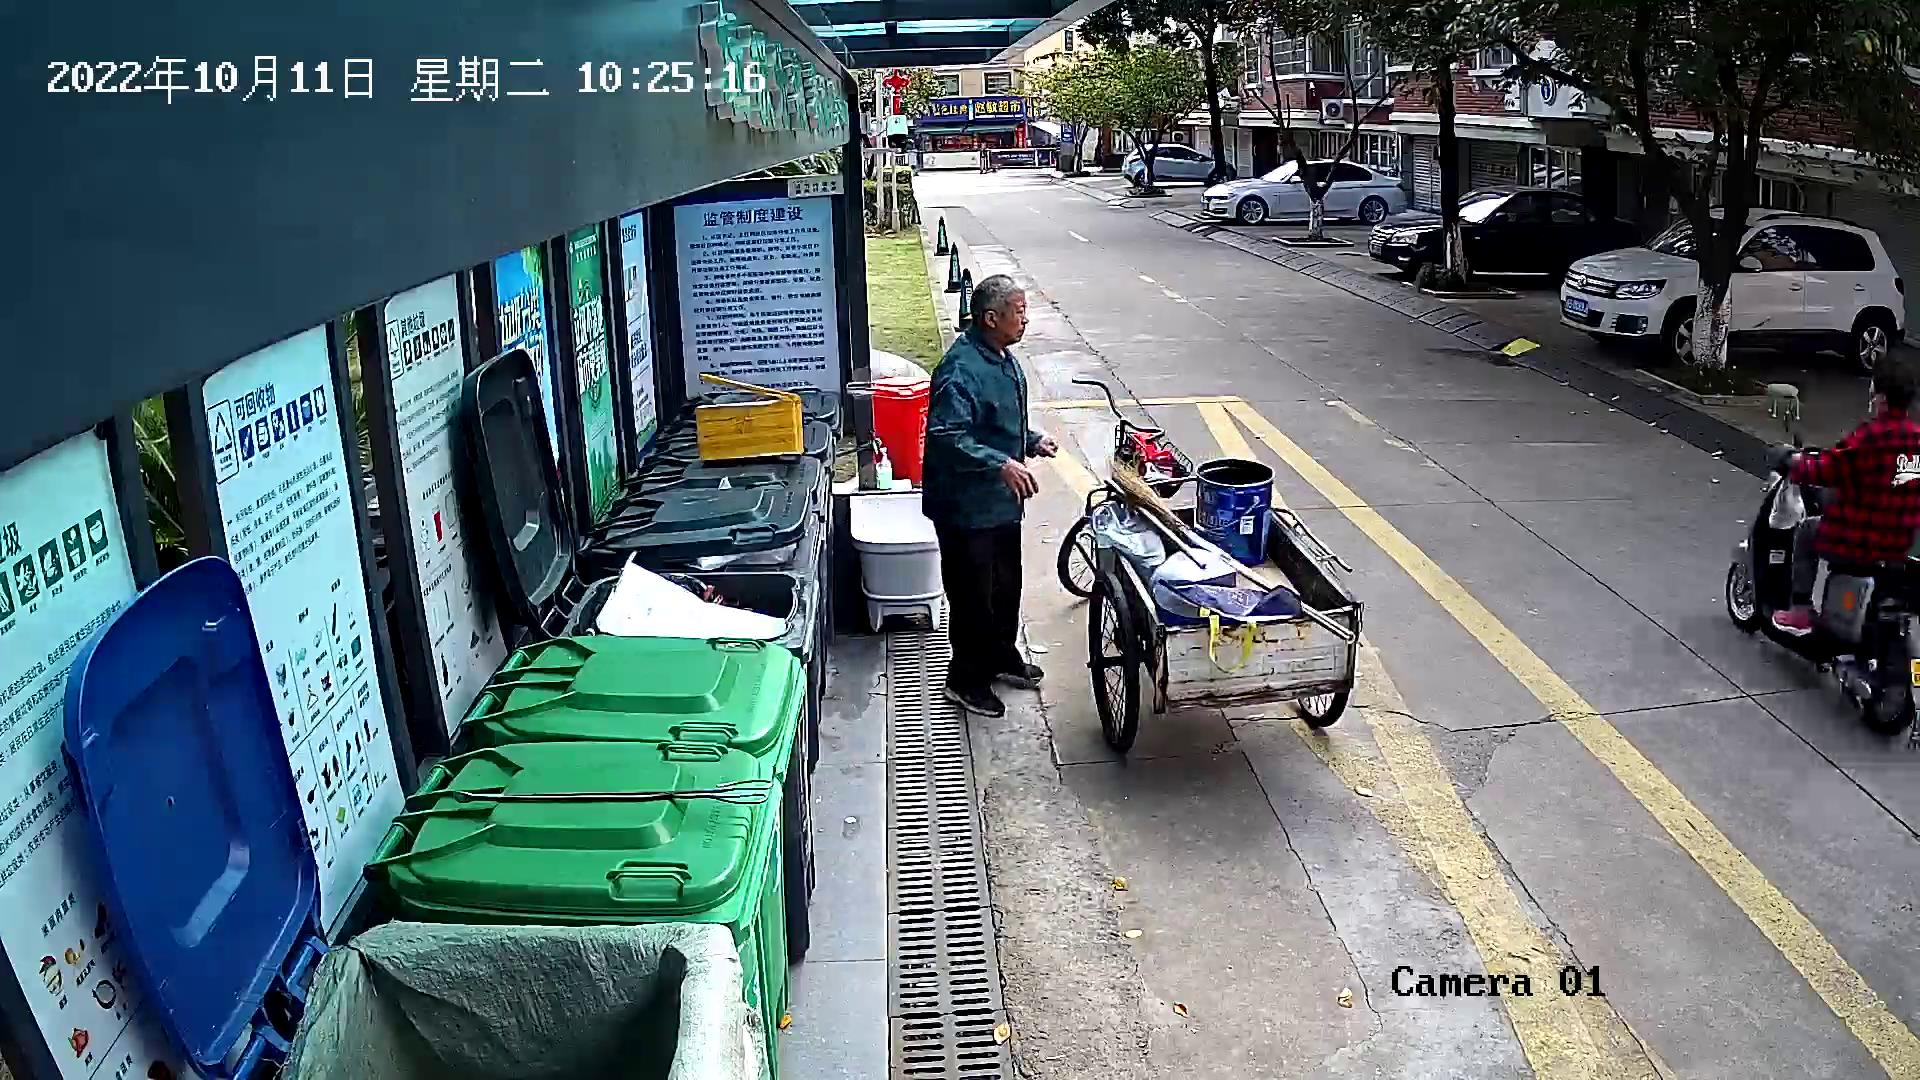worker: (916, 269, 1067, 725)
